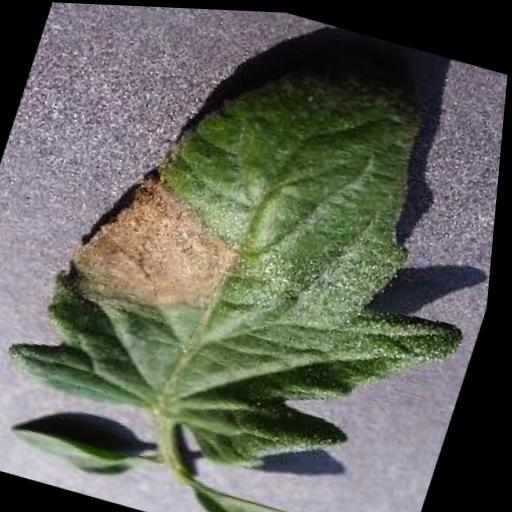Late Blight: (0, 1, 512, 512)
